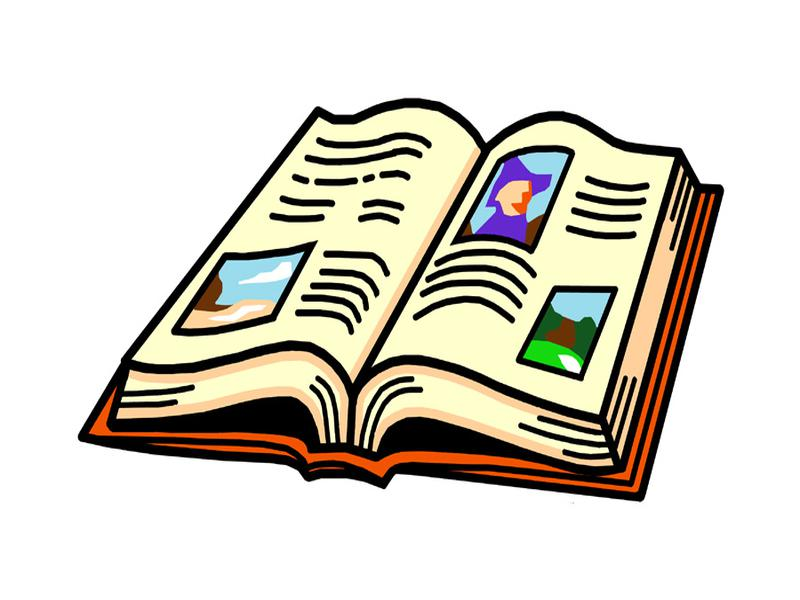book: (79, 96, 724, 512)
